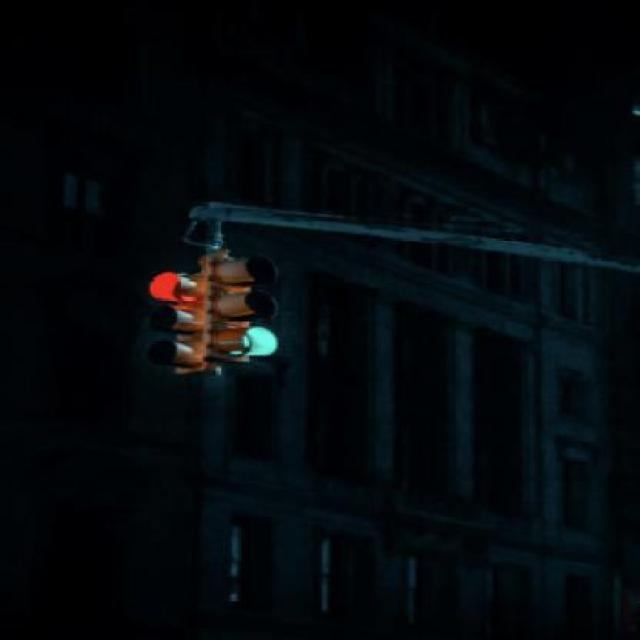Traffic_signal: (145, 258, 217, 374), (211, 249, 280, 360)
